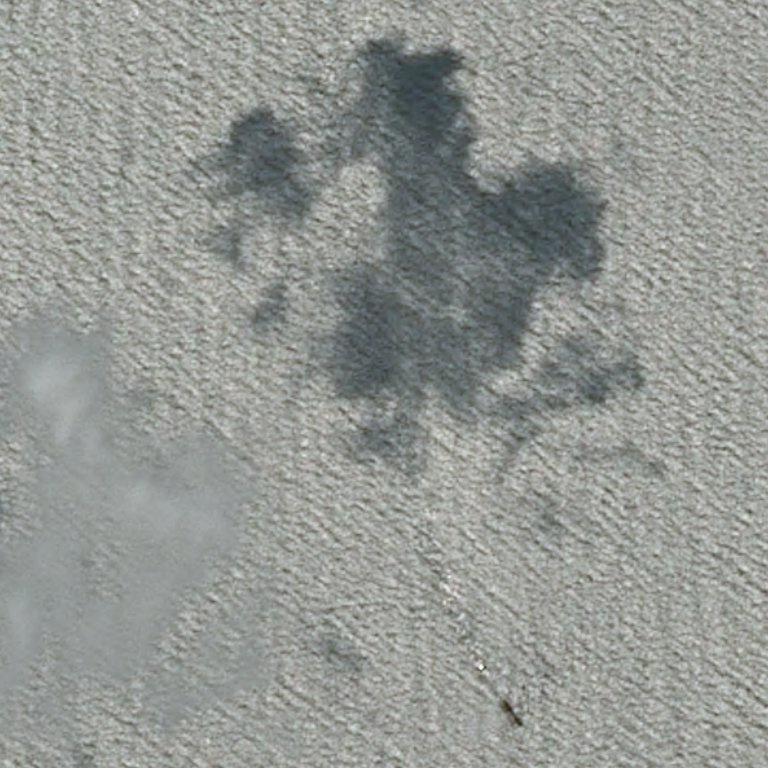ship: (496, 697, 524, 733), (502, 699, 507, 704), (517, 726, 521, 731), (497, 703, 500, 707)
